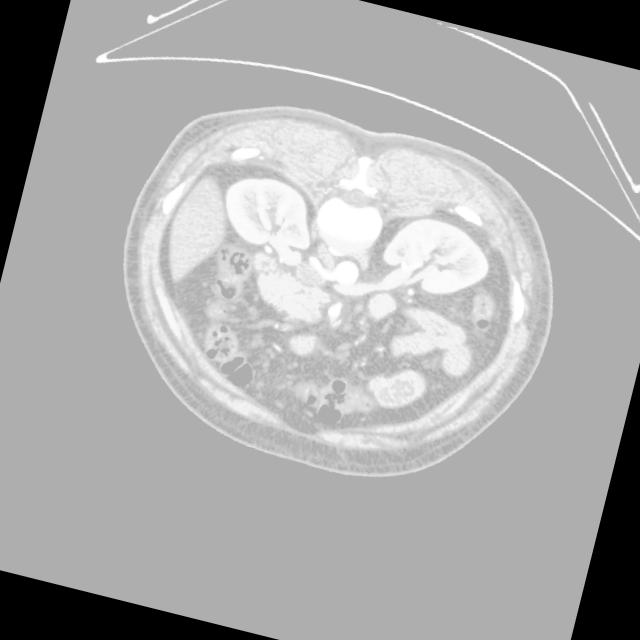NORMAL: (75, 89, 575, 506)
